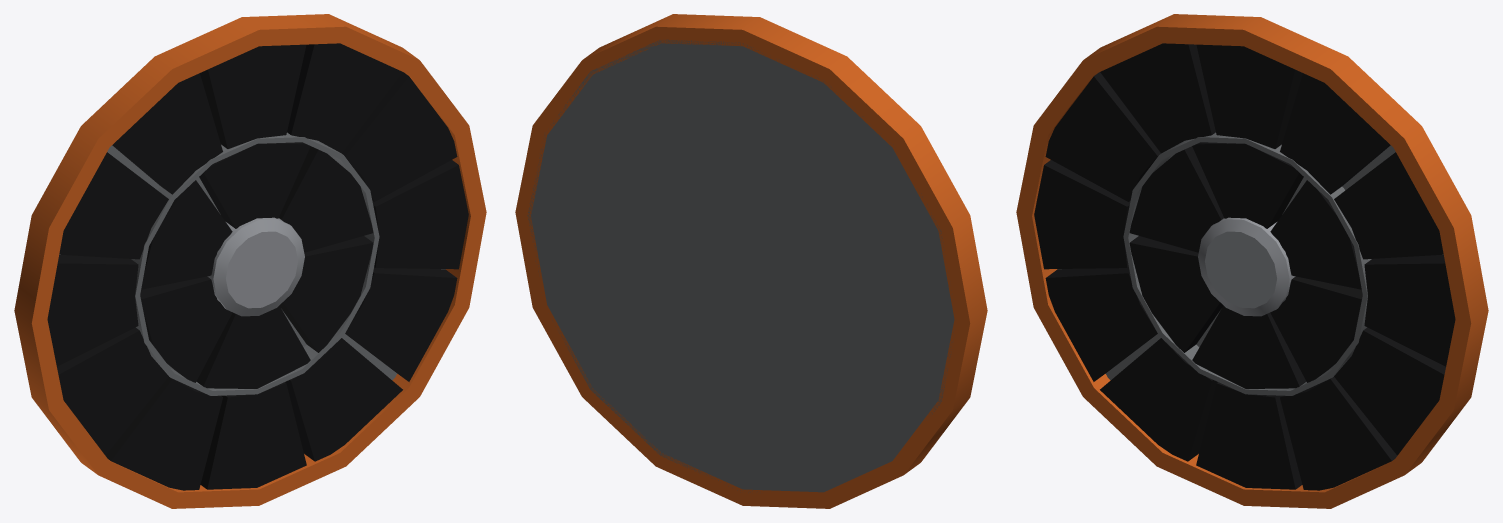
File: engine_hot_emitter_annulus.obj
3 views of the same model, side by side, from view 1: azimuth 30°, elevation 25°; view 2: azimuth 150°, elevation 25°; view 3: azimuth 330°, elevation 25° (orthographic).
Visible parts, largest first — view 1: engine_hot_emitter_annulus; view 2: engine_hot_emitter_annulus; view 3: engine_hot_emitter_annulus.
Boxes of the visible parts, x1,y1,x2,y2 form: engine_hot_emitter_annulus: (14,14,486,508); engine_hot_emitter_annulus: (515,14,987,508); engine_hot_emitter_annulus: (1016,14,1488,508).
Size of the model in its own units: 3.77 by 3.77 by 0.29.
